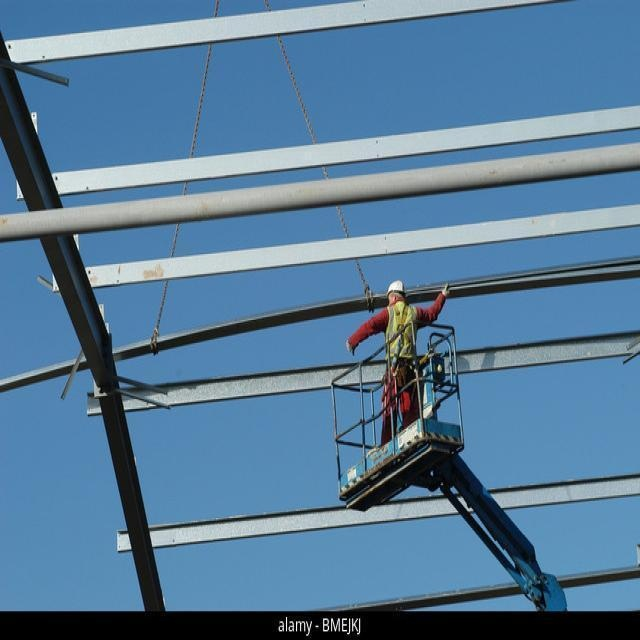Arnes_seguridad: (384, 299, 416, 364)
